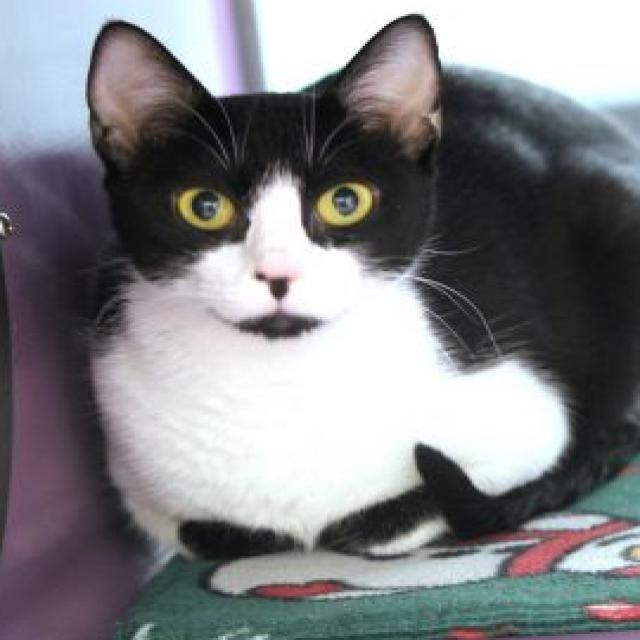Tuxedo: (78, 8, 640, 558)
